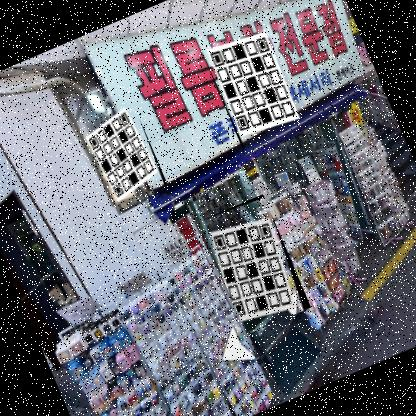qncode: (198, 193, 312, 334), (199, 19, 307, 148), (75, 96, 168, 207)
